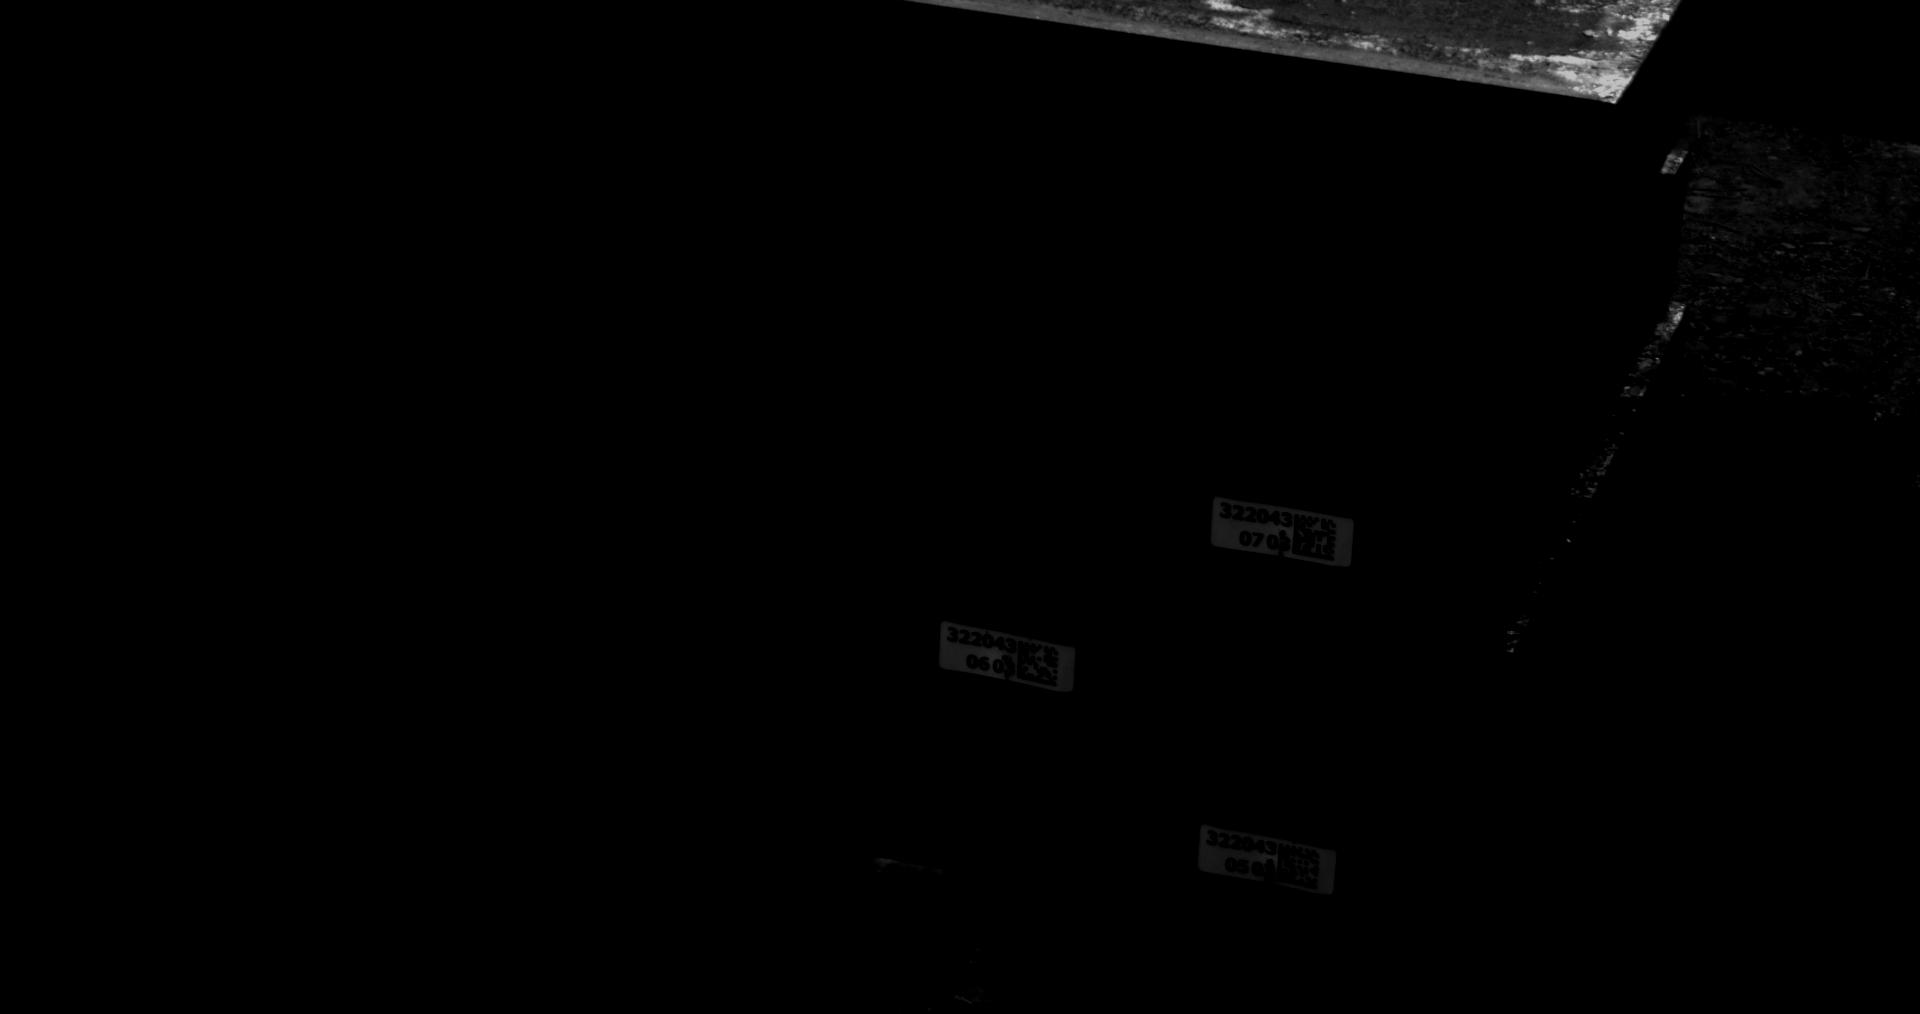data matrix: (1139, 113, 1194, 168), (1228, 298, 1276, 352), (1276, 841, 1324, 893), (1291, 511, 1338, 563), (1016, 638, 1062, 690)
